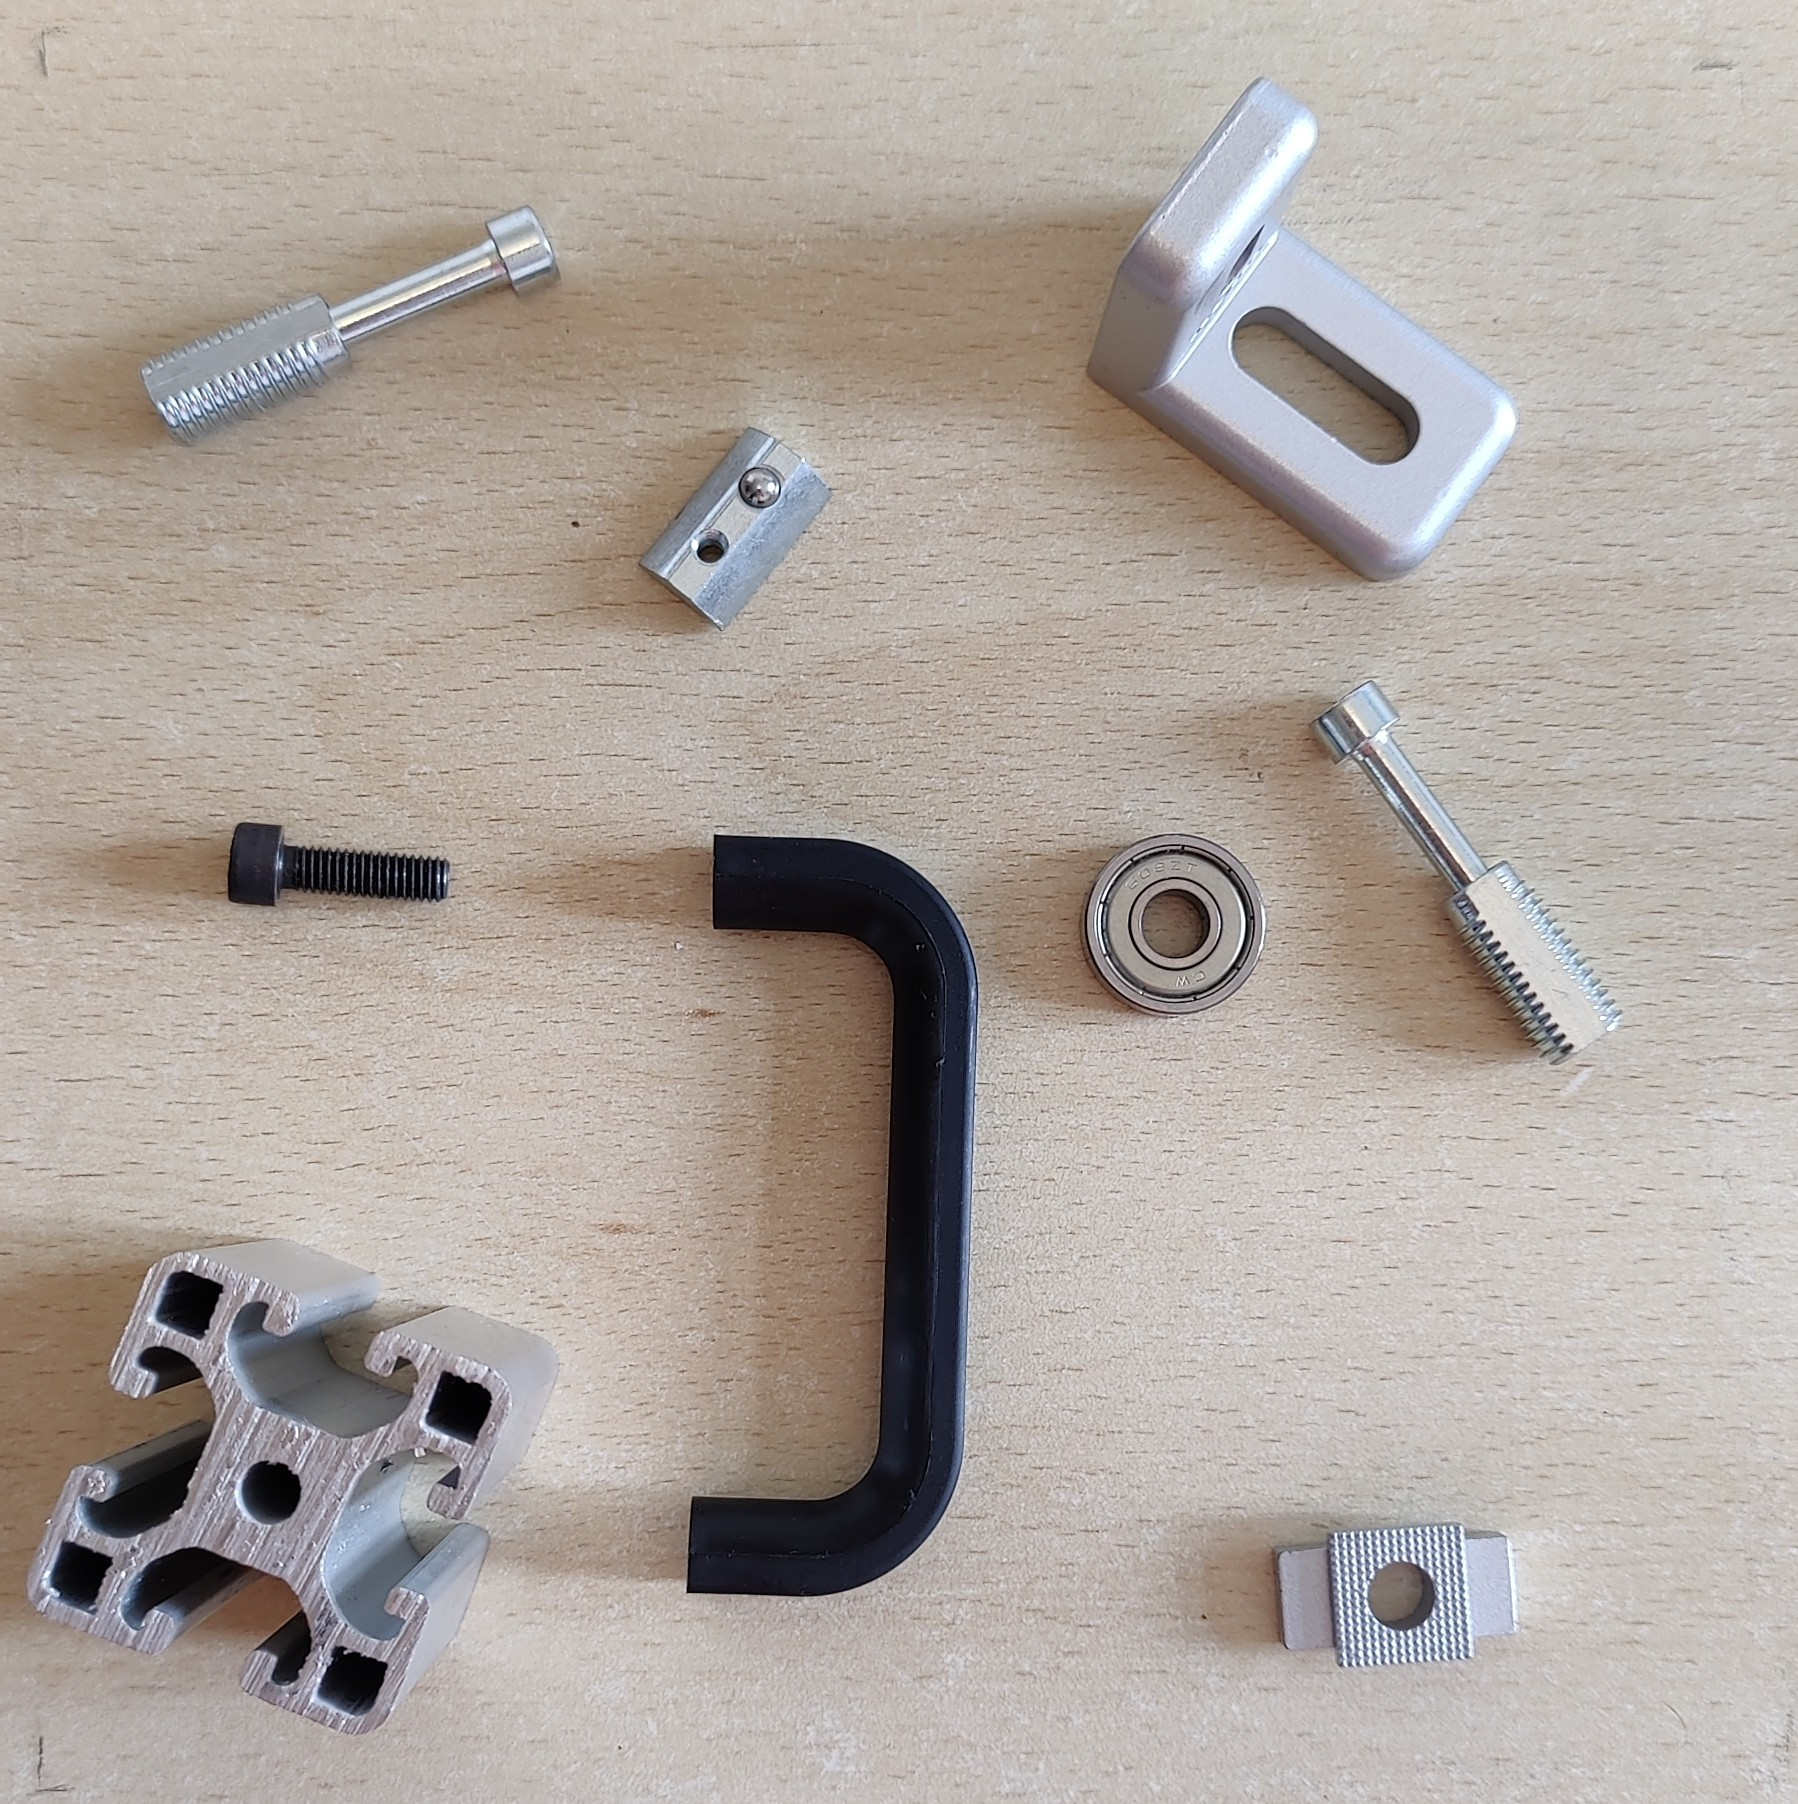Aluminium Extension: (21, 1234, 561, 1737)
Ball Bearing: (1077, 831, 1268, 1021)
Multiwinkel: (1082, 72, 1520, 584)
Pull Handle: (683, 831, 981, 1600)
Shoulder Socket Head Cap Screw: (1306, 676, 1627, 1067), (138, 204, 563, 451)
Socket Head Cap Screw: (226, 820, 453, 910)
T Nut Square: (1269, 1518, 1521, 1671)
T Spring Nut: (636, 423, 835, 634)
